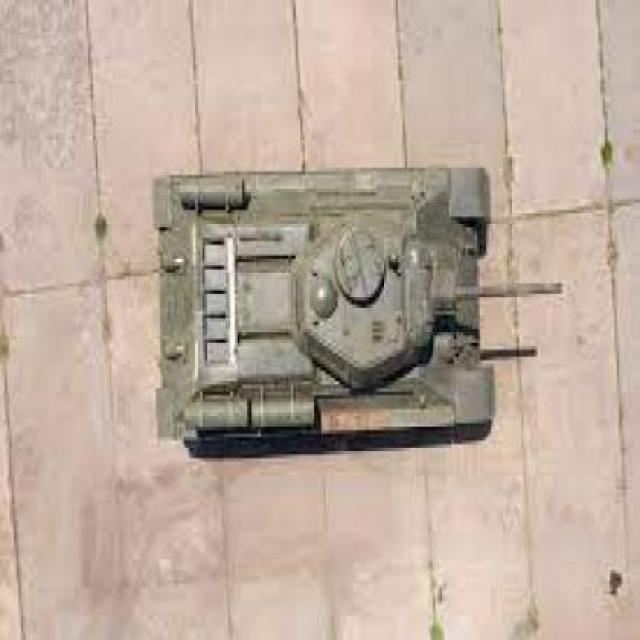tank: (149, 164, 564, 446)
